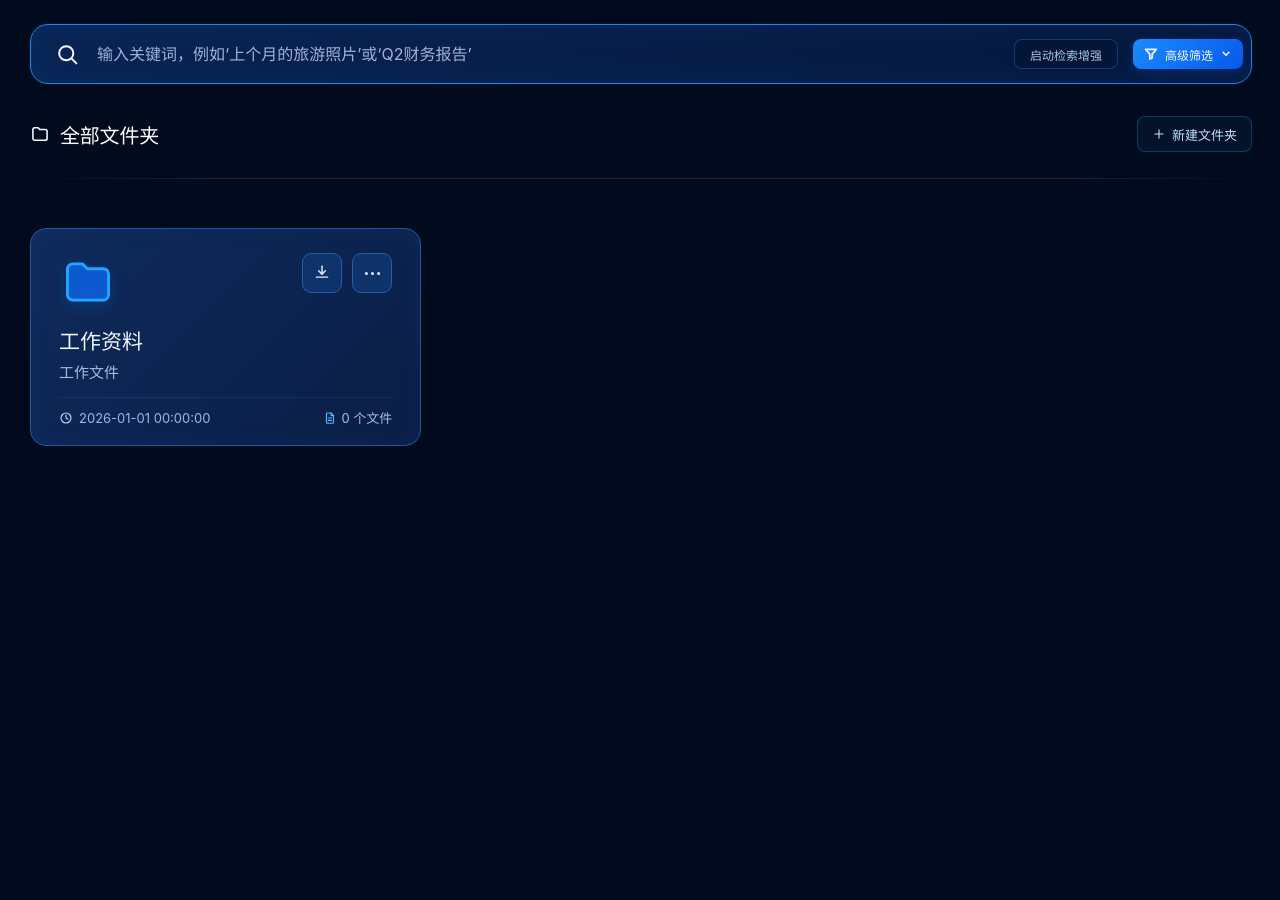
LibraryPage › opens and closes the import-file dialog without an import-folder action
The width and height of the screenshot is (1280, 900).
Expected: the heading "工作资料" is shown, [59,329,143,354]
Click the button named "导入文件" at (322, 273), box [302,253,342,293]
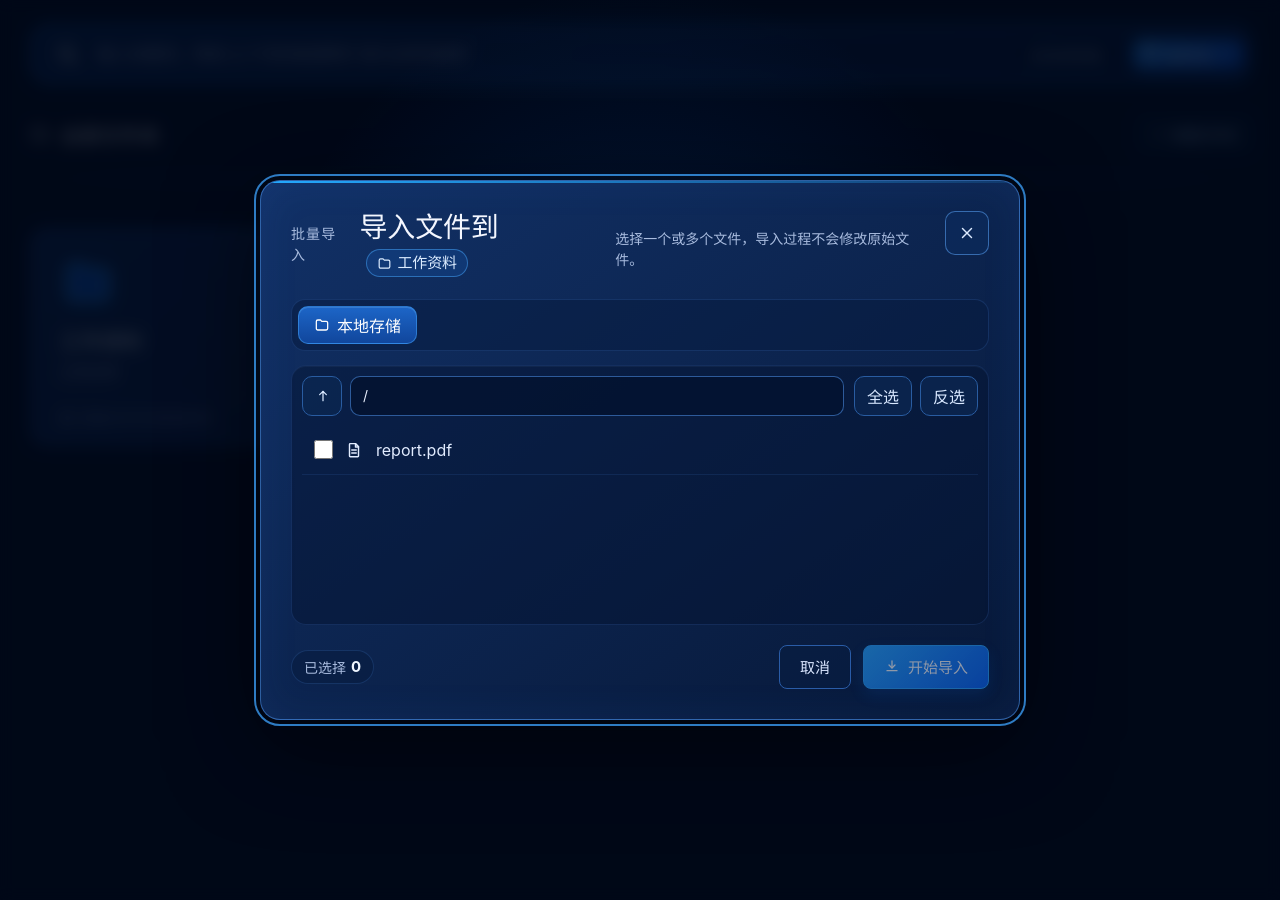
Result: the dialog "导入文件到 工作资料" is shown at [260,180,1020,720]
Result: the text "report.pdf" is shown at [376,440,452,460]
Click the button named "关闭" at (967, 233), box [945,211,989,255]
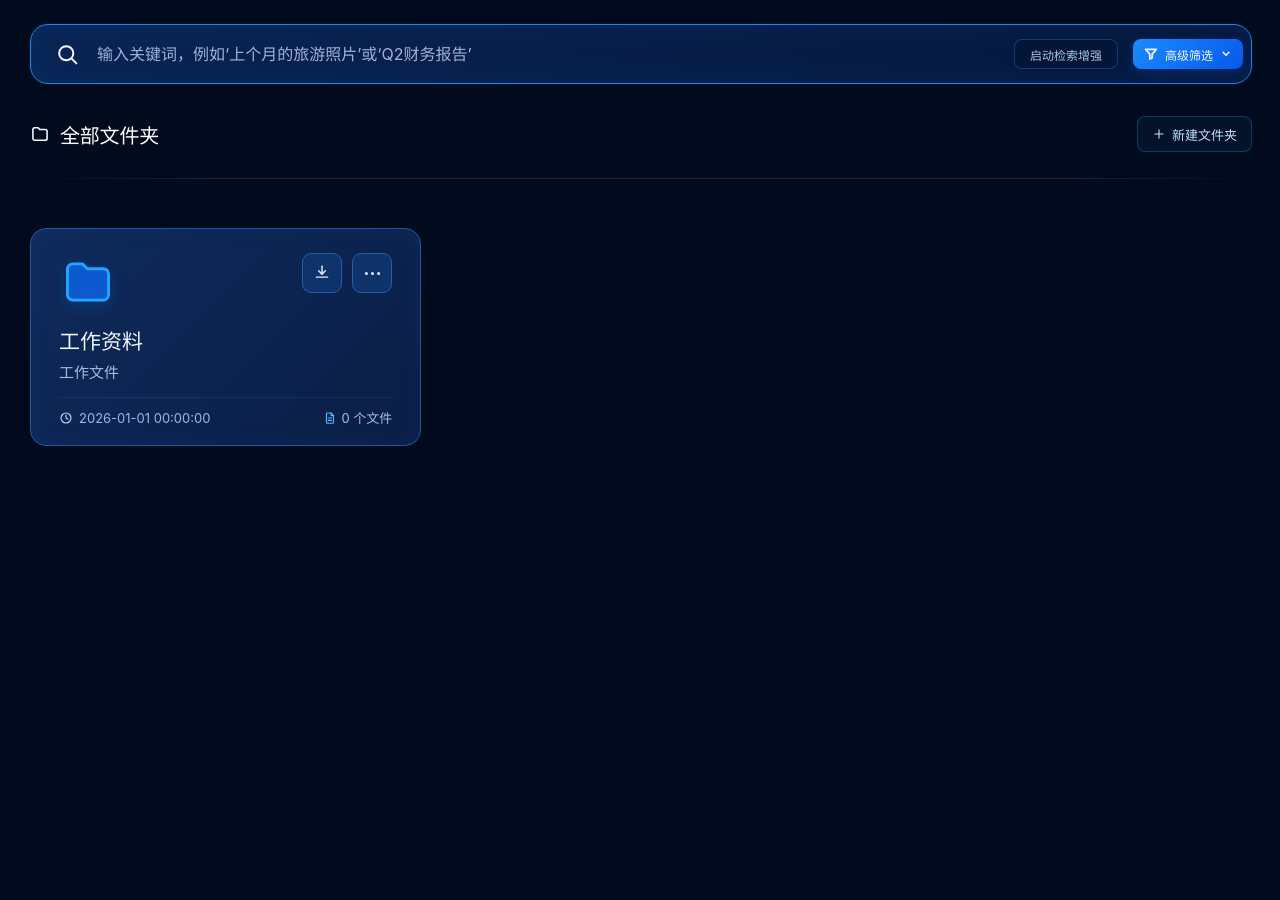
Result: the dialog is gone
